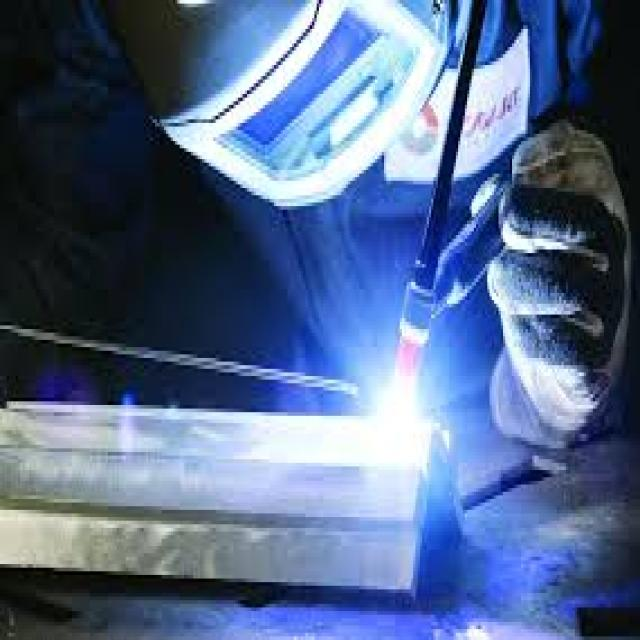welding: (367, 385, 422, 461)
